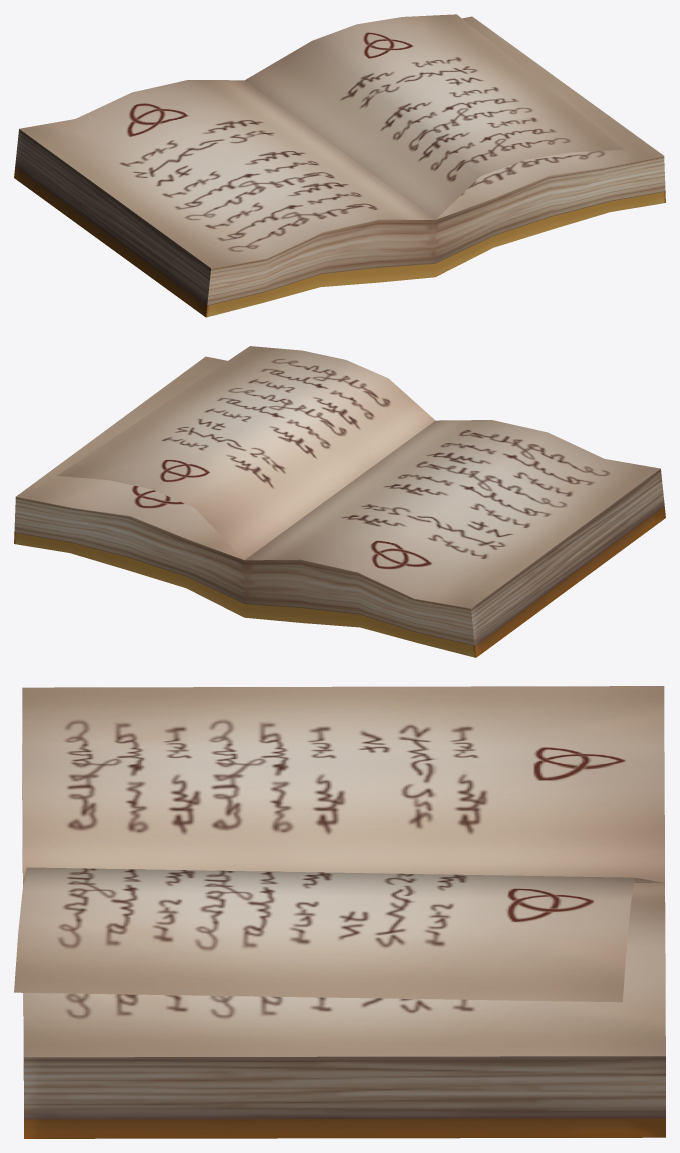
Rendered from book_03.fbx.
3 views of the same model, one above another, from view 1: azimuth 30°, elevation 25°; view 2: azimuth 150°, elevation 25°; view 3: azimuth 270°, elevation 25° (orthographic). The views are drawn at different scales.
Visible parts, largest first — view 1: book_03Mesh; view 2: book_03Mesh; view 3: book_03Mesh.
Part boxes in pixels (x1=…): book_03Mesh: x1=14, y1=14, x2=665, y2=317; book_03Mesh: x1=14, y1=346, x2=665, y2=657; book_03Mesh: x1=14, y1=686, x2=665, y2=1138.
Bounding box in the file's own units: 0.9769 × 0.1937 × 0.71.
